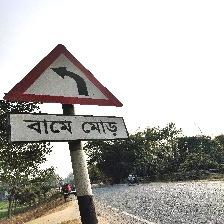Left-Turn: (2, 44, 127, 144)
